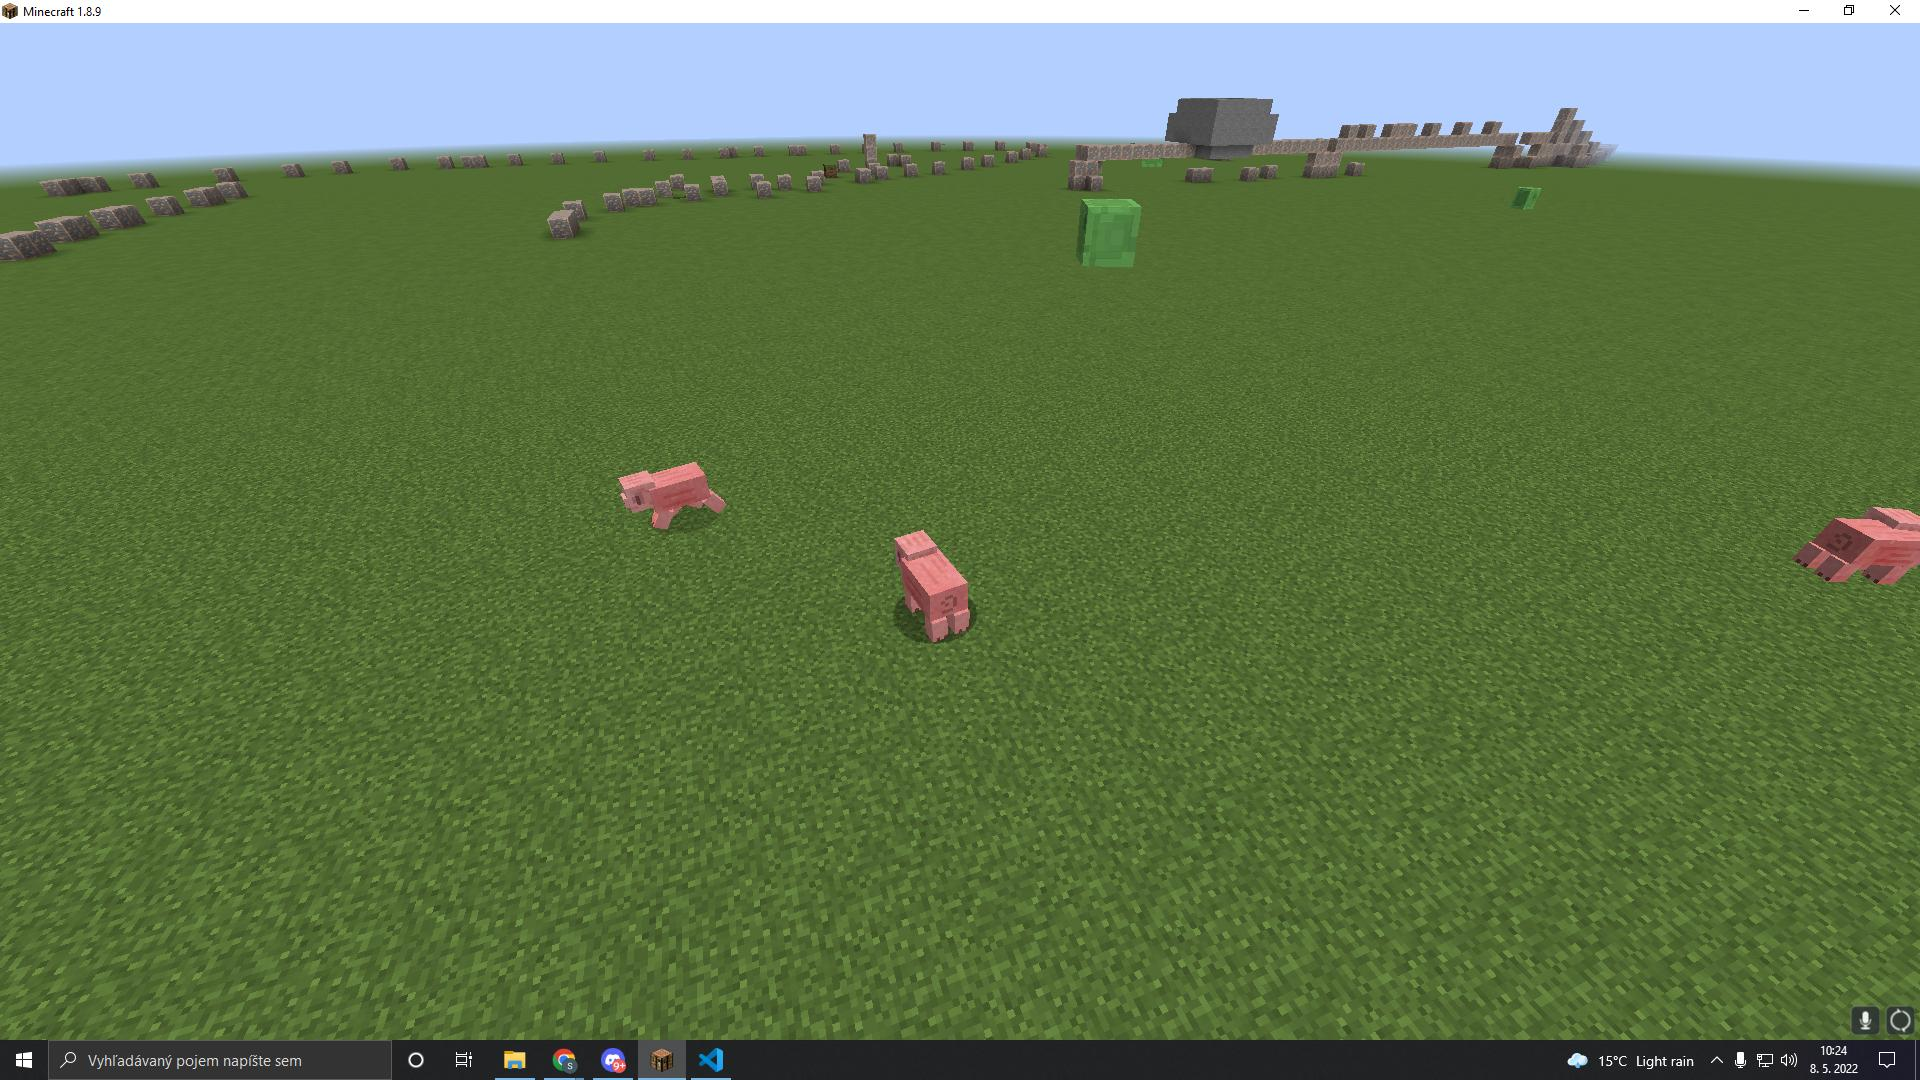pig: (877, 525, 984, 655), (1787, 498, 1920, 595), (605, 455, 740, 538)
